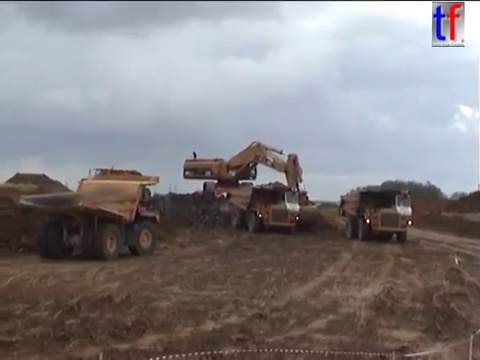excavator: (181, 139, 318, 232), (190, 184, 270, 211)
truck: (17, 171, 161, 260), (336, 186, 413, 243), (224, 182, 302, 232), (76, 163, 154, 208)
